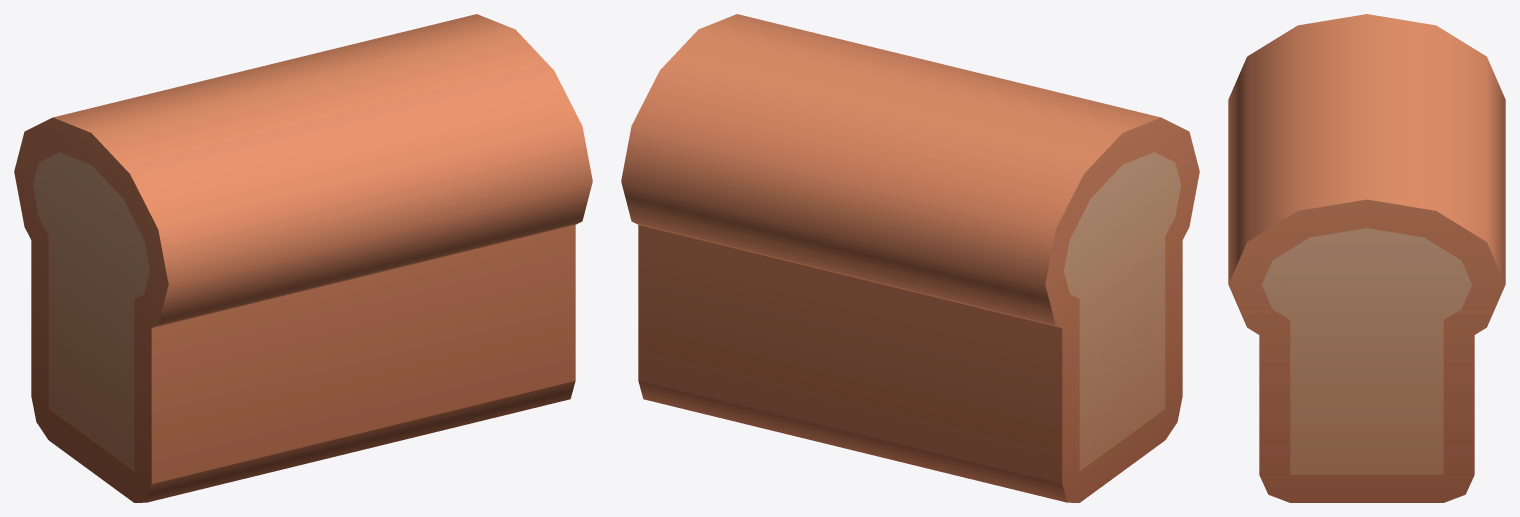
Rendered from bread.glb.
3 renders of one model, left to right at view 1: azimuth 30°, elevation 25°; view 2: azimuth 150°, elevation 25°; view 3: azimuth 270°, elevation 25°, orthographic. The views are drawn at different scales.
Parts seen in each view (by area): view 1: loaf; view 2: loaf; view 3: loaf.
Part boxes in pixels (x1,y1,x2,y2): loaf: (14,14,592,502); loaf: (621,14,1199,502); loaf: (1228,14,1505,502).
Bounding box in the file's own units: 0.3 × 0.2289 × 0.1894.
1 material, 1 textured.
